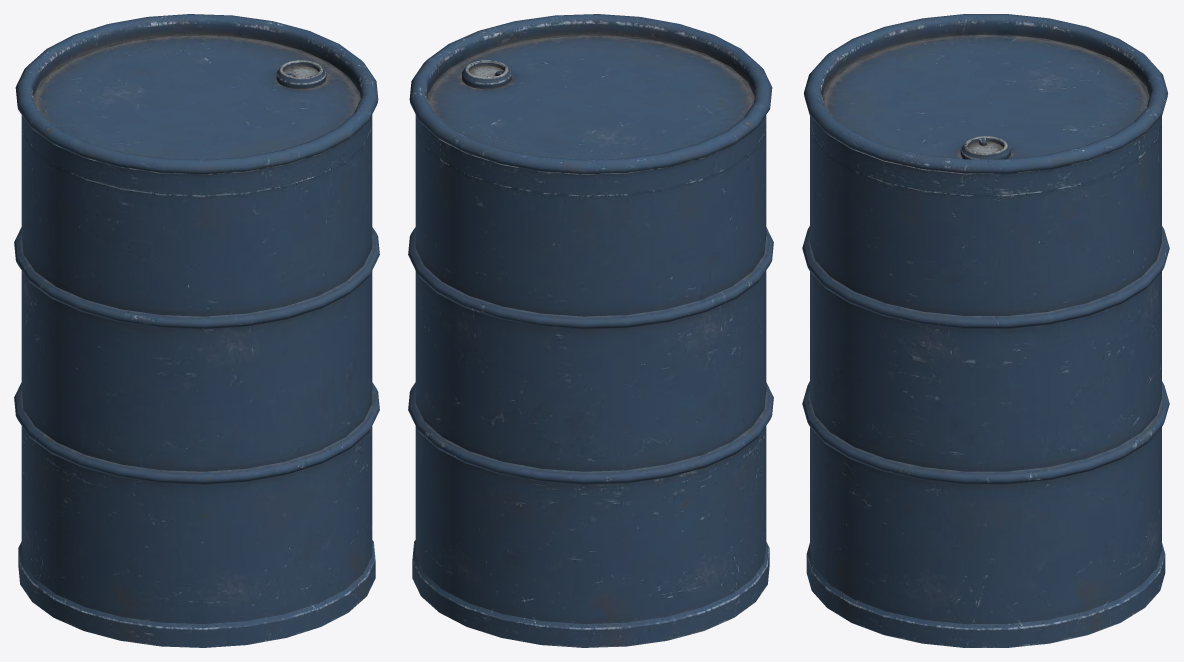
The model's file is barrel_03.glb.
3 views of the same model, side by side, from view 1: azimuth 30°, elevation 25°; view 2: azimuth 150°, elevation 25°; view 3: azimuth 270°, elevation 25° (orthographic).
Visible parts, largest first — view 1: barrel_03; view 2: barrel_03; view 3: barrel_03.
Boxes of the visible parts, bbox=[...] form: barrel_03: bbox=[14, 14, 379, 647]; barrel_03: bbox=[408, 14, 773, 647]; barrel_03: bbox=[802, 14, 1169, 647].
Bounding box in the file's own units: 0.634 × 0.9305 × 0.6386.
Materials: 1 (1 with a texture image).
